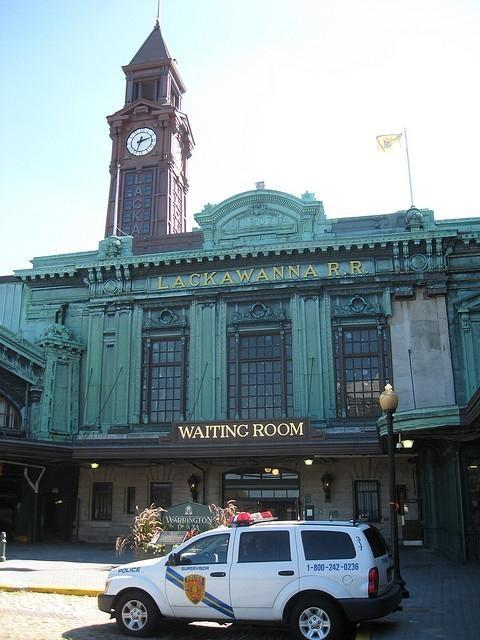car: (99, 523, 396, 640)
truck: (98, 511, 406, 640)
